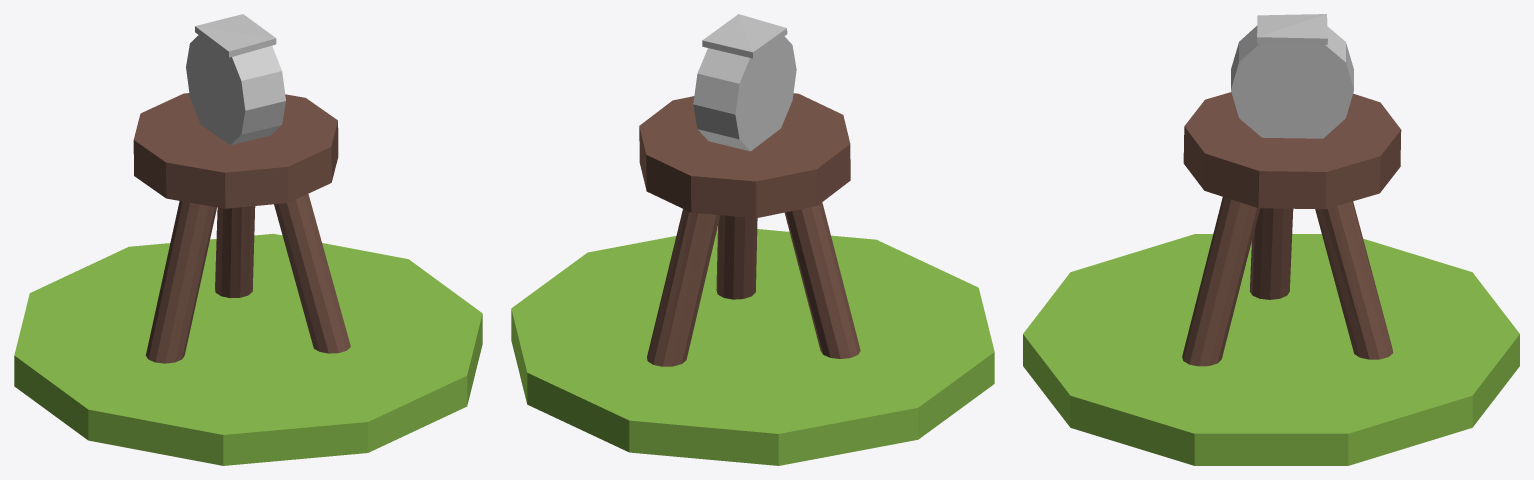
The model's file is fishbowl.fbx.
3 renders of one model, left to right at view 1: azimuth 30°, elevation 25°; view 2: azimuth 150°, elevation 25°; view 3: azimuth 270°, elevation 25°, orthographic. The views are drawn at different scales.
Parts seen in each view (by area): view 1: group_13980068, group_843816881, mesh_701238410, mesh_1976350500, mesh_1571626436, mesh_1132590816; view 2: group_13980068, group_843816881, mesh_701238410, mesh_1132590816, mesh_1976350500, mesh_1571626436; view 3: group_13980068, group_843816881, mesh_701238410, mesh_1571626436, mesh_1132590816, mesh_1976350500.
Part boxes in pixels (x1=…): group_13980068: x1=14, y1=233, x2=482, y2=465; group_843816881: x1=133, y1=93, x2=338, y2=208; mesh_701238410: x1=186, y1=14, x2=285, y2=145; mesh_1976350500: x1=146, y1=201, x2=216, y2=363; mesh_1571626436: x1=274, y1=194, x2=350, y2=353; mesh_1132590816: x1=215, y1=206, x2=255, y2=298; group_13980068: x1=511, y1=228, x2=994, y2=465; group_843816881: x1=639, y1=93, x2=850, y2=218; mesh_701238410: x1=693, y1=14, x2=796, y2=151; mesh_1132590816: x1=647, y1=209, x2=720, y2=366; mesh_1976350500: x1=784, y1=202, x2=860, y2=358; mesh_1571626436: x1=716, y1=215, x2=757, y2=299; group_13980068: x1=1023, y1=234, x2=1519, y2=465; group_843816881: x1=1183, y1=92, x2=1401, y2=209; mesh_701238410: x1=1231, y1=14, x2=1353, y2=138; mesh_1571626436: x1=1182, y1=197, x2=1259, y2=366; mesh_1132590816: x1=1315, y1=201, x2=1393, y2=359; mesh_1976350500: x1=1249, y1=208, x2=1293, y2=299.
Size of the model in its own units: 203 by 161 by 214.
